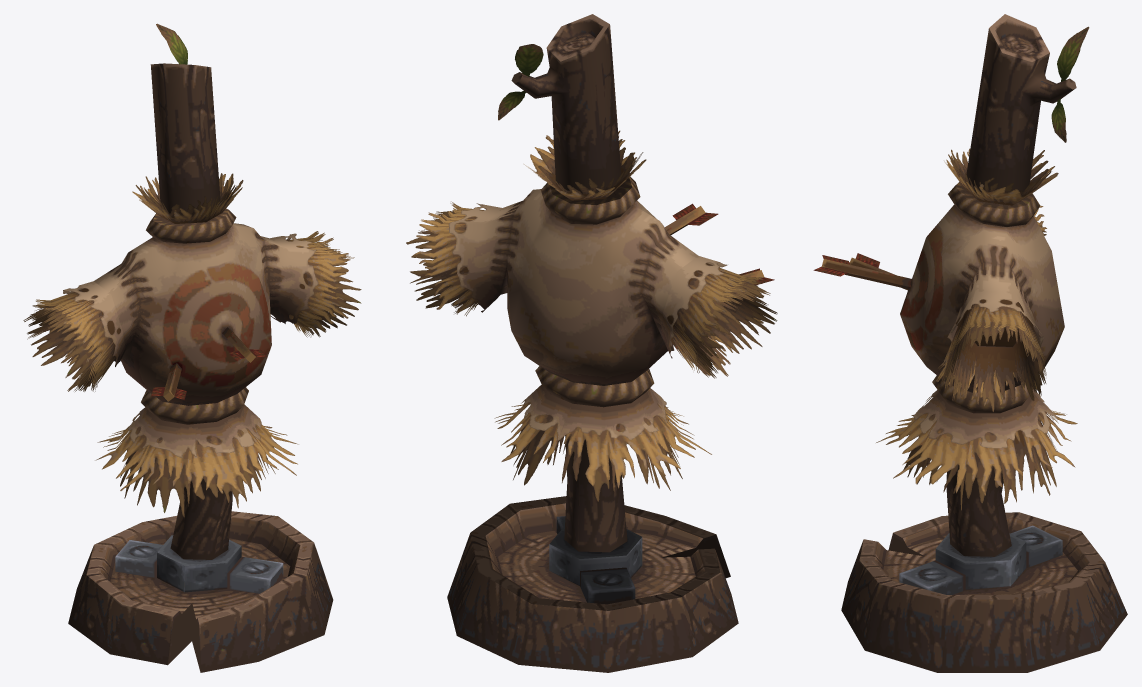
The model's file is training_dummy_3273f086.glb.
3 renders of one model, left to right at view 1: azimuth 30°, elevation 25°; view 2: azimuth 150°, elevation 25°; view 3: azimuth 270°, elevation 25°, orthographic. The views are drawn at different scales.
Bounding box in the file's own units: 1.99 × 3.29 × 1.58.
1 material, 1 textured.
